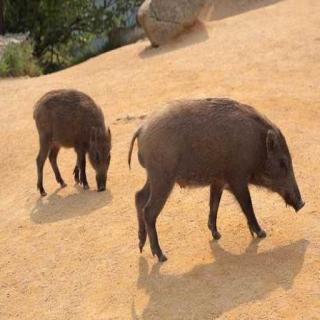Pig: (114, 65, 313, 276)
